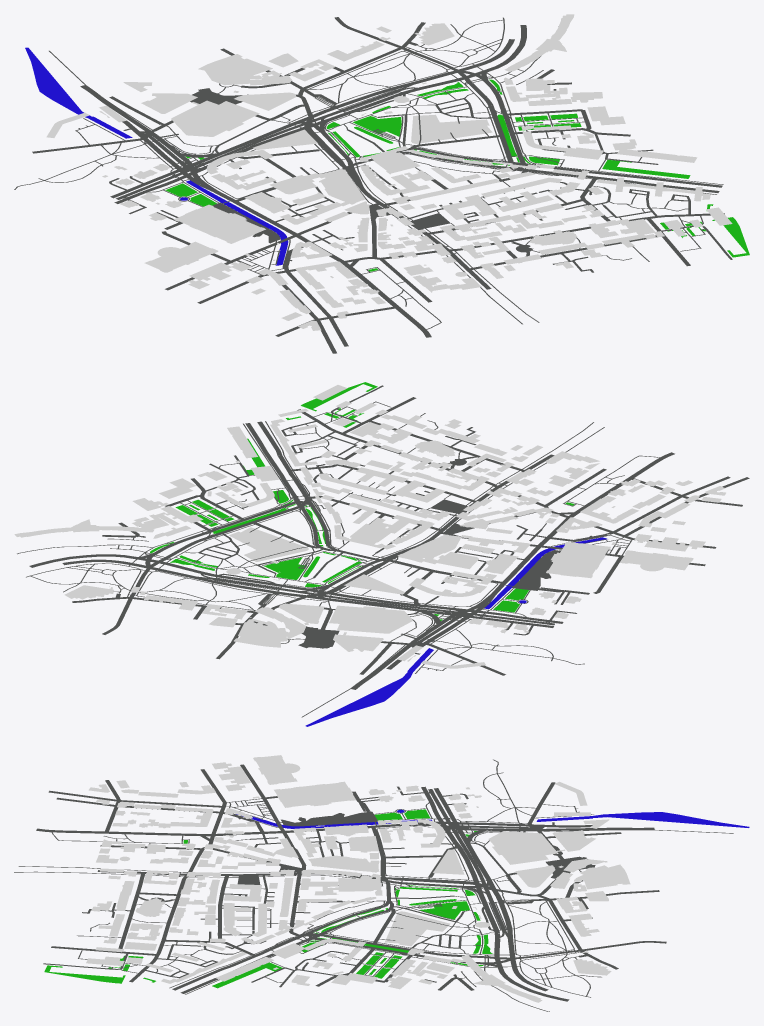
3 views of the same model, one above another, from view 1: azimuth 30°, elevation 25°; view 2: azimuth 150°, elevation 25°; view 3: azimuth 270°, elevation 25° (orthographic). The views are drawn at different scales.
Parts seen in each view (by area): view 1: map_2.osm_buildings, map_2.osm_paths_footway, map_2.osm_roads_residential, map_2.osm_roads_primary, map_2.osm_roads_service, map_2.osm_vegetation, map_2.osm_roads_secondary, map_2.osm_water, map_2.osm_areas_pedestrian, map_2.osm_roads_pedestrian, map_2.osm_roads_tertiary; view 2: map_2.osm_buildings, map_2.osm_paths_footway, map_2.osm_roads_residential, map_2.osm_roads_primary, map_2.osm_roads_service, map_2.osm_roads_secondary, map_2.osm_vegetation, map_2.osm_water, map_2.osm_areas_pedestrian, map_2.osm_roads_pedestrian, map_2.osm_roads_tertiary; view 3: map_2.osm_buildings, map_2.osm_paths_footway, map_2.osm_roads_residential, map_2.osm_roads_primary, map_2.osm_roads_service, map_2.osm_vegetation, map_2.osm_roads_secondary, map_2.osm_water, map_2.osm_areas_pedestrian, map_2.osm_roads_pedestrian, map_2.osm_roads_tertiary.
Part boxes in pixels (box(x1,y1,x2,y2)): map_2.osm_buildings: box(46, 14, 732, 330); map_2.osm_paths_footway: box(14, 17, 723, 330); map_2.osm_roads_residential: box(32, 17, 724, 353); map_2.osm_roads_primary: box(80, 25, 526, 337); map_2.osm_roads_service: box(109, 84, 732, 272); map_2.osm_vegetation: box(165, 79, 749, 271); map_2.osm_roads_secondary: box(110, 70, 722, 289); map_2.osm_water: box(25, 47, 288, 265); map_2.osm_areas_pedestrian: box(190, 88, 450, 243); map_2.osm_roads_pedestrian: box(205, 22, 591, 130); map_2.osm_roads_tertiary: box(344, 147, 523, 170); map_2.osm_buildings: box(14, 385, 725, 668); map_2.osm_paths_footway: box(17, 401, 659, 717); map_2.osm_roads_residential: box(102, 397, 749, 675); map_2.osm_roads_primary: box(29, 452, 674, 689); map_2.osm_roads_service: box(139, 385, 620, 654); map_2.osm_roads_secondary: box(137, 421, 563, 627); map_2.osm_vegetation: box(150, 382, 574, 620); map_2.osm_water: box(305, 537, 607, 726); map_2.osm_areas_pedestrian: box(298, 499, 560, 648); map_2.osm_roads_pedestrian: box(72, 495, 317, 659); map_2.osm_roads_tertiary: box(299, 499, 387, 561); map_2.osm_buildings: box(86, 755, 630, 1002); map_2.osm_paths_footway: box(14, 759, 733, 1011); map_2.osm_roads_residential: box(48, 764, 666, 990); map_2.osm_roads_primary: box(36, 821, 654, 1001); map_2.osm_roads_service: box(43, 786, 557, 987); map_2.osm_vegetation: box(44, 809, 492, 988); map_2.osm_roads_secondary: box(97, 786, 513, 993); map_2.osm_water: box(236, 809, 749, 828); map_2.osm_areas_pedestrian: box(237, 811, 595, 884); map_2.osm_roads_pedestrian: box(347, 866, 659, 982); map_2.osm_roads_tertiary: box(301, 878, 393, 937).
Bounding box in the file's own units: 102300 × 3020 × 124189.
